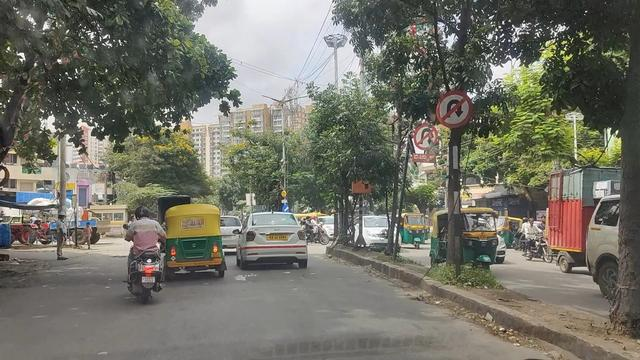LMV: (115, 211, 167, 305), (166, 205, 226, 276), (237, 220, 300, 267)
